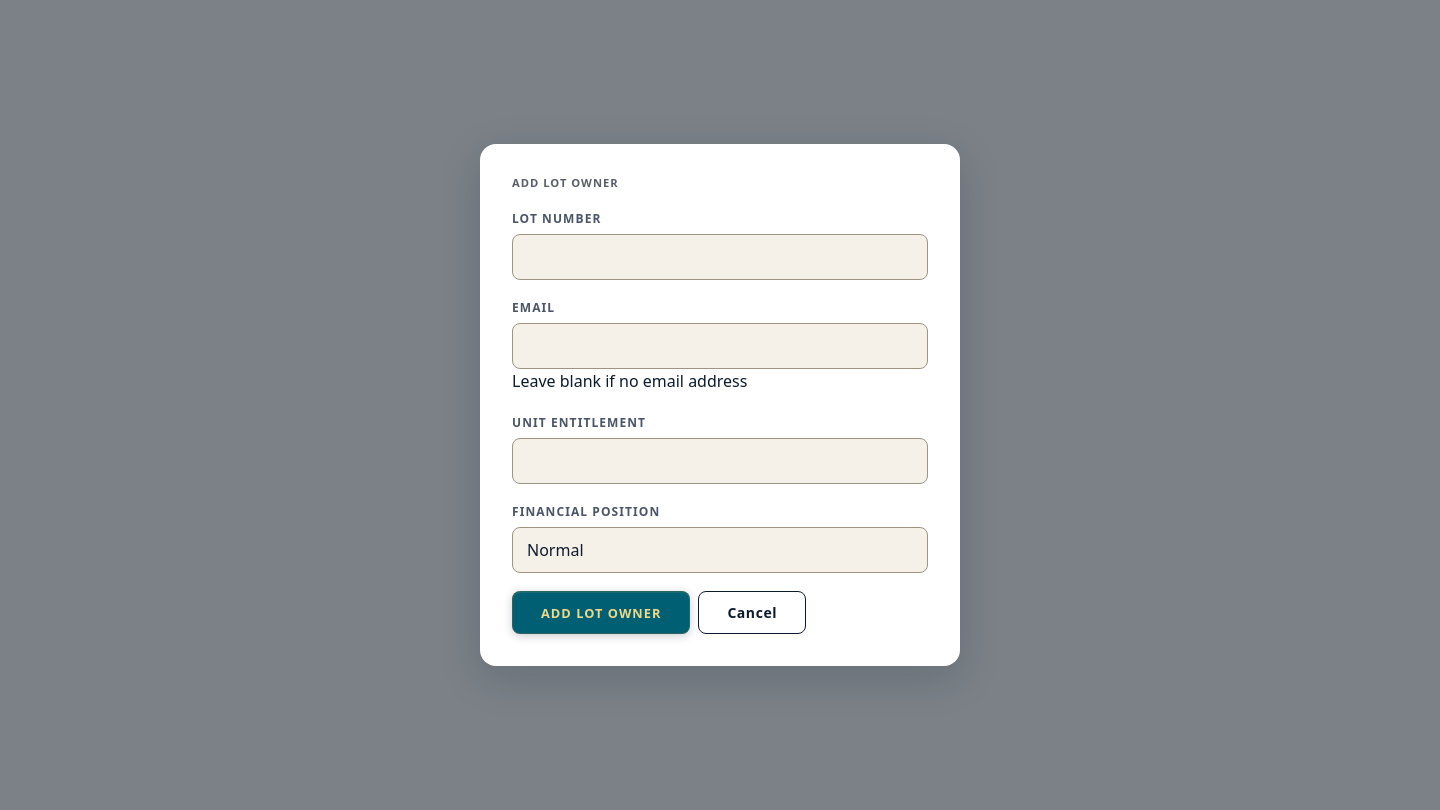
Test: LotOwnerForm - Add mode › shows validation error when unit entitlement is not a number
The image size is (1440, 810).
Type "5E" into the field labelled "Lot Number" at (720, 257), box [512,234,928,280]
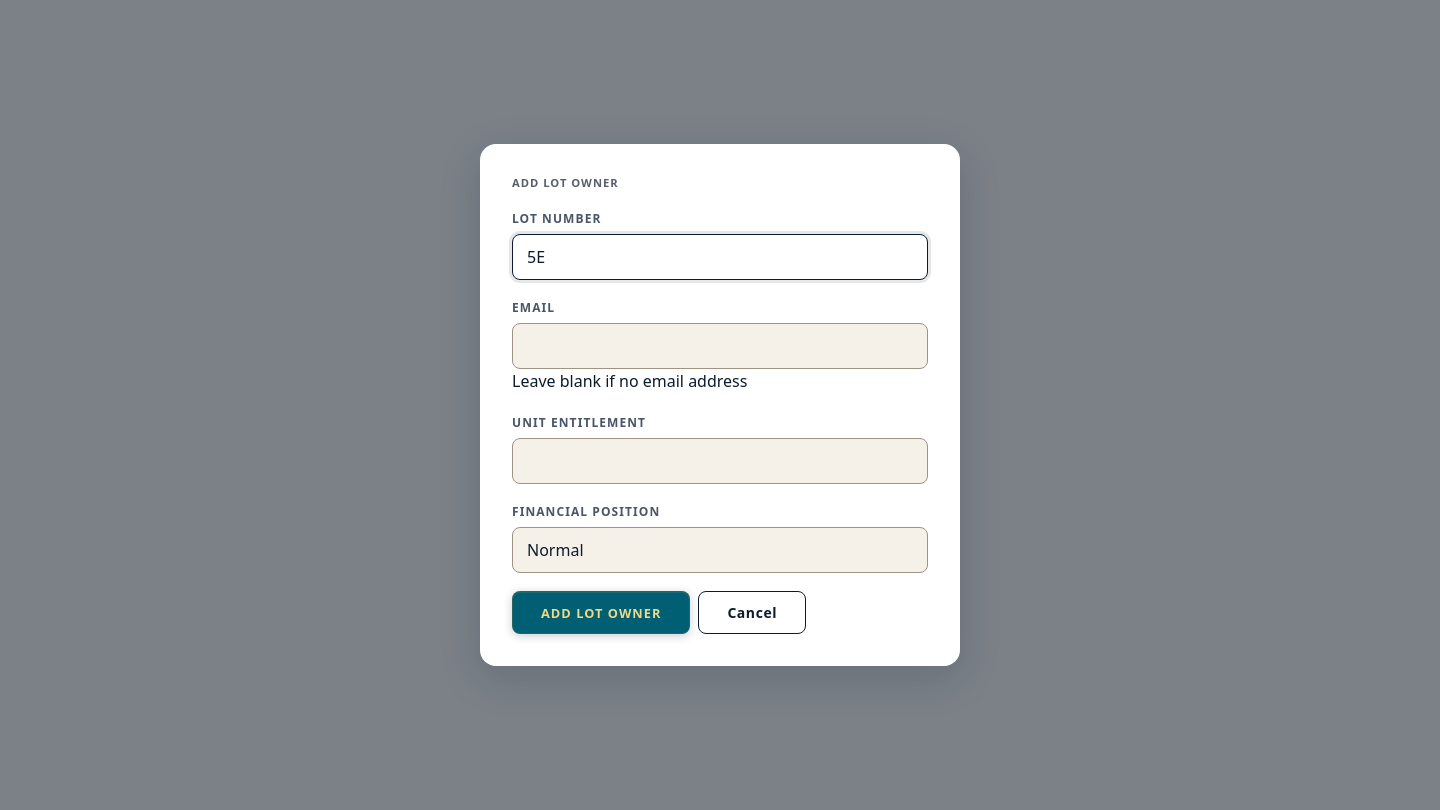
Type "e@e.com" into the field labelled "Email" at (720, 346), box [512,323,928,369]
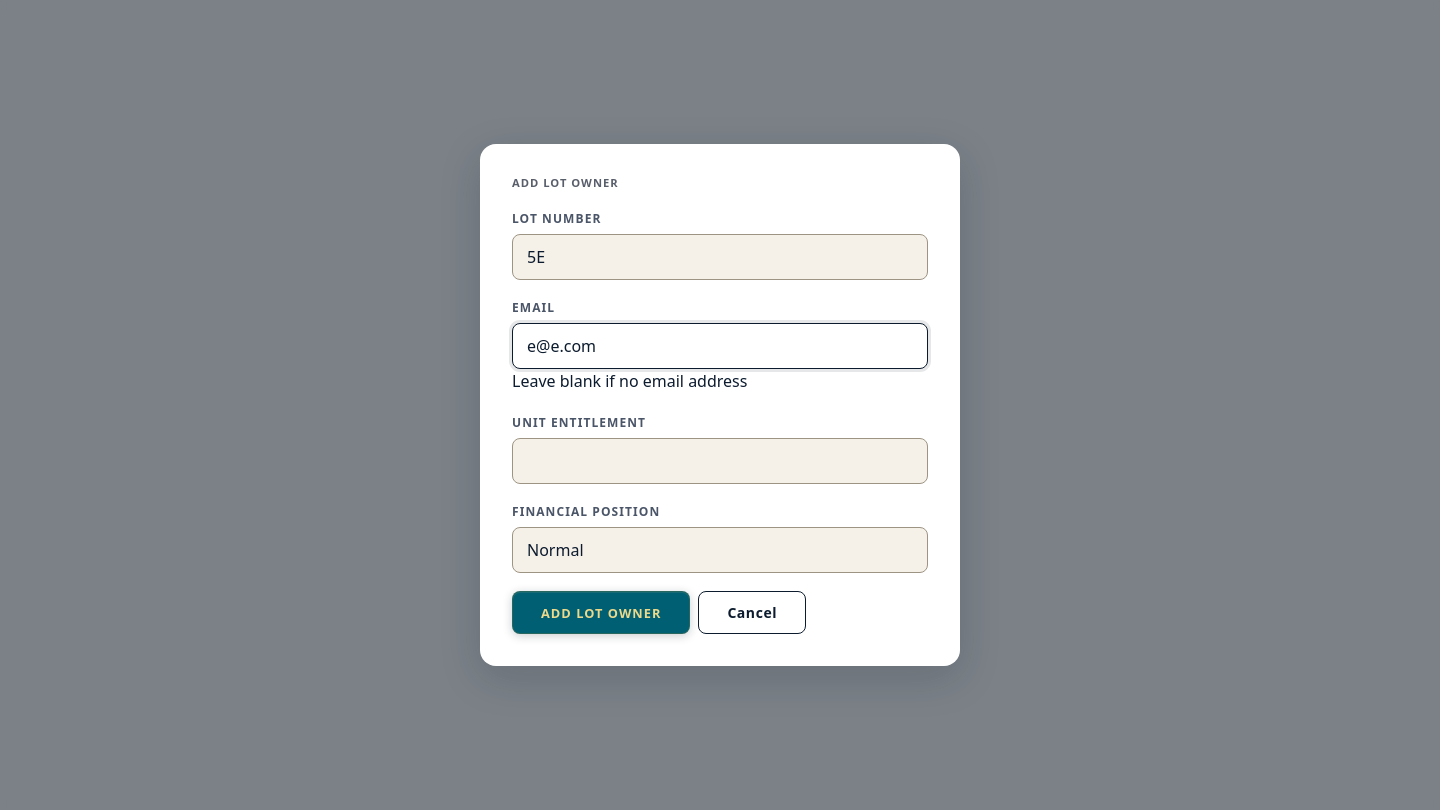
Type "abc" into the number field labelled "Unit Entitlement" at (720, 461), box [512,438,928,484]
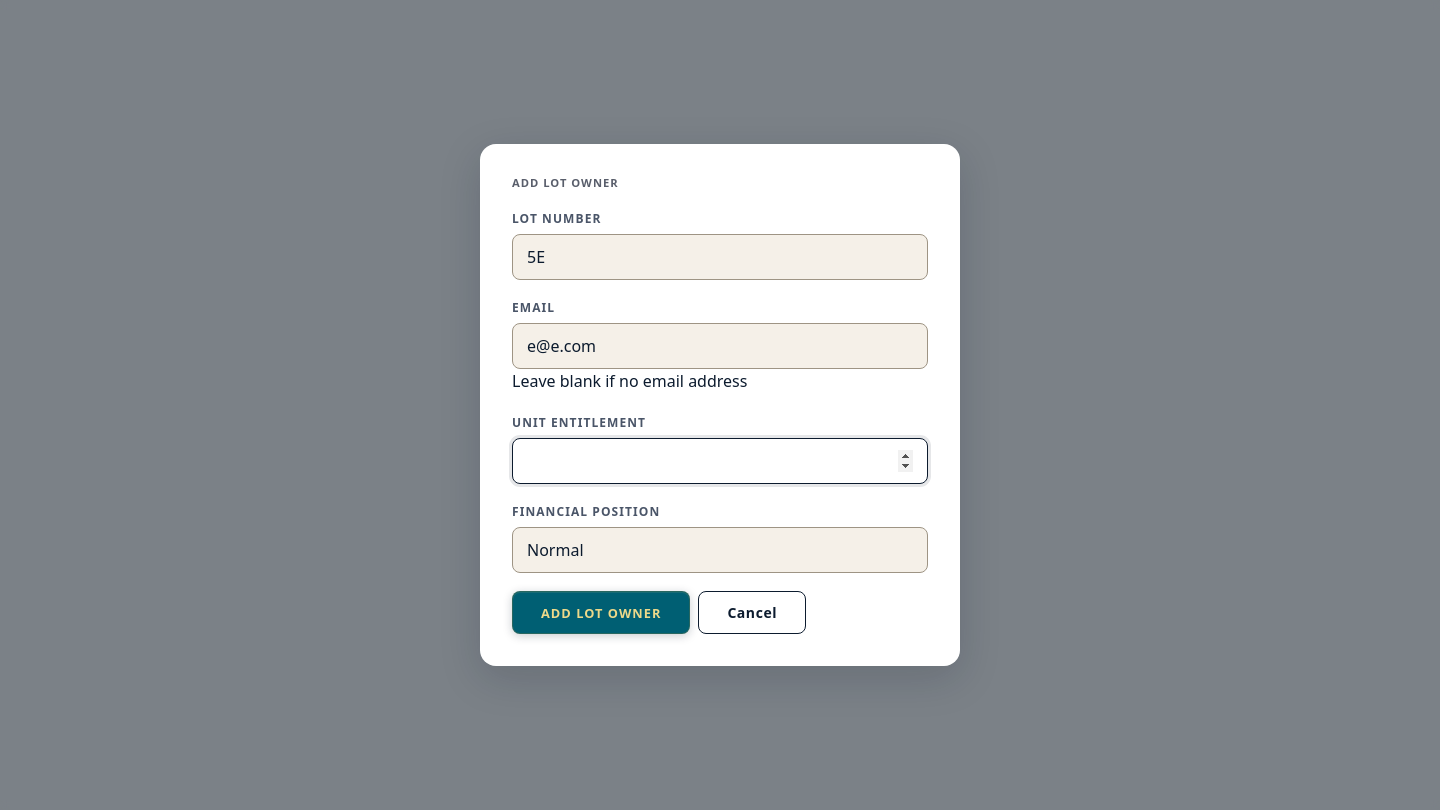
Click the button "Add Lot Owner" at (601, 613), box [512,591,690,634]
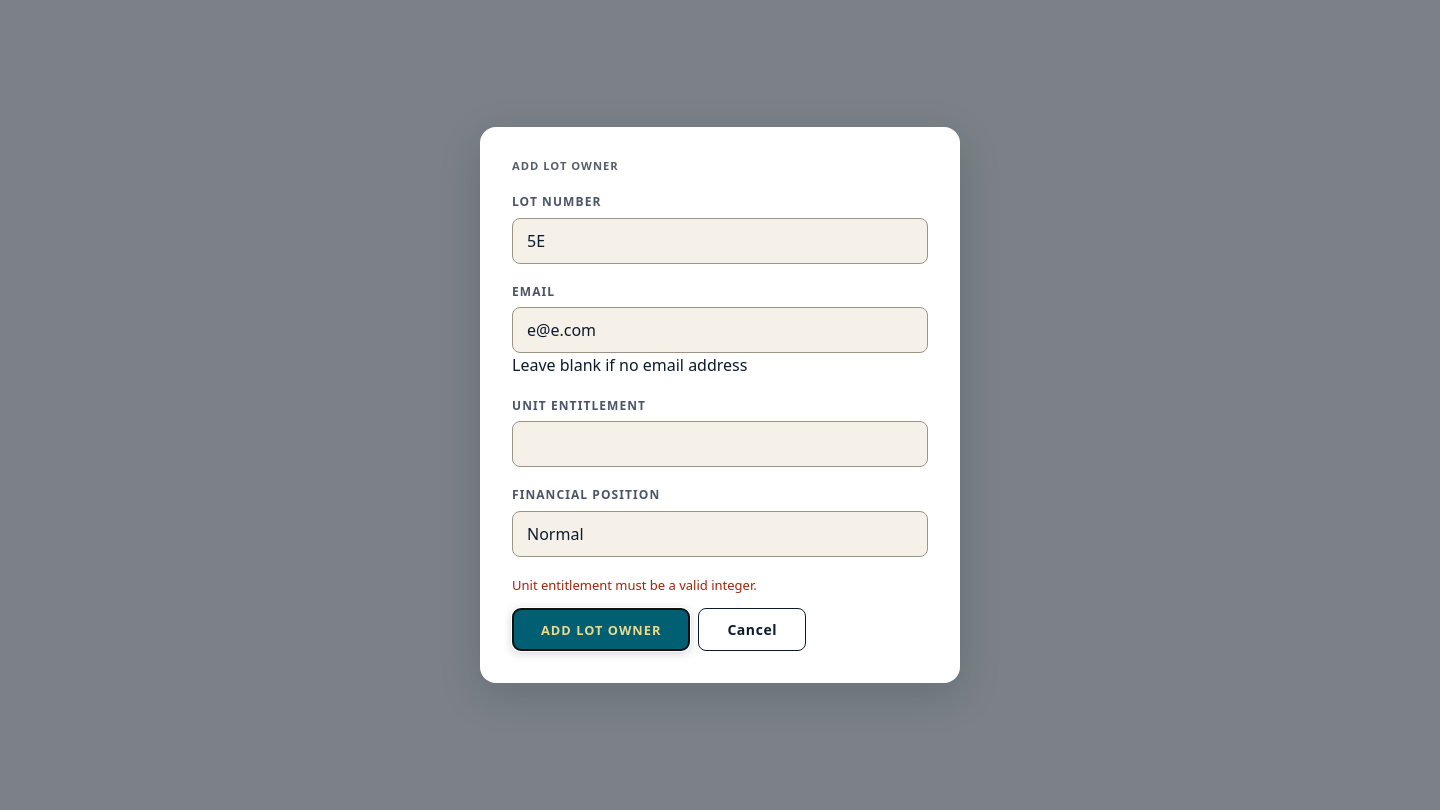
expect the text "Unit entitlement must be a valid integer." is shown: met, box [512,576,757,594]
